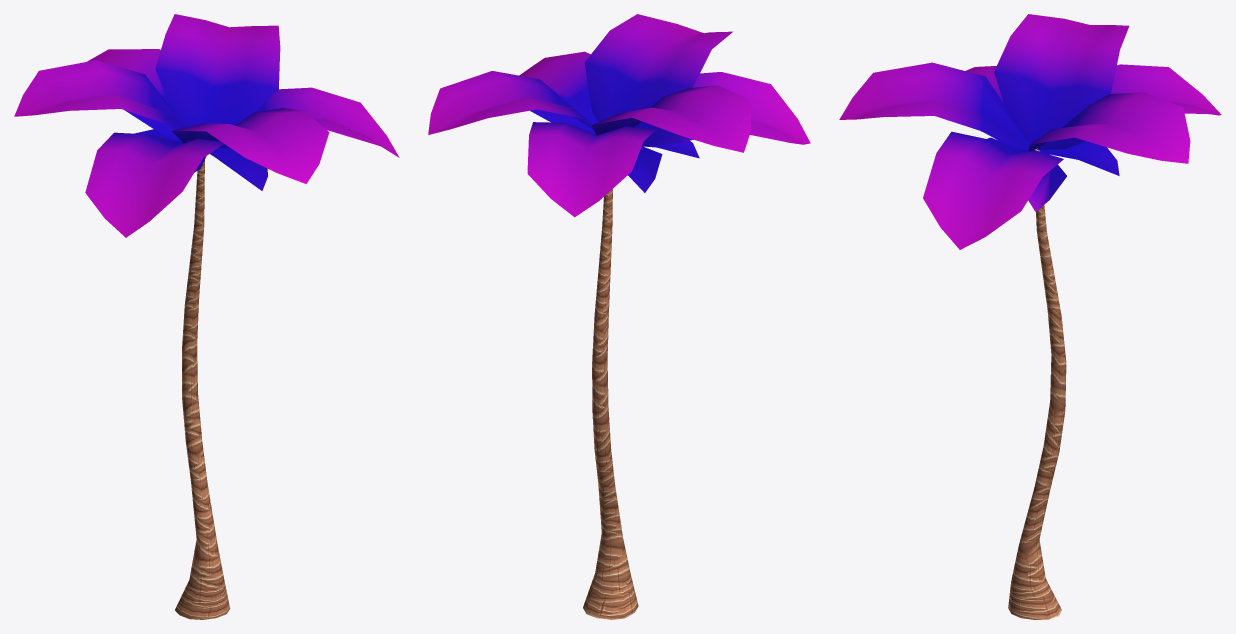
File: Tree_Palmier_02.fbx
3 renders of one model, left to right at view 1: azimuth 30°, elevation 25°; view 2: azimuth 150°, elevation 25°; view 3: azimuth 270°, elevation 25°, orthographic.
Parts seen in each view (by area): view 1: Palmier_02; view 2: Palmier_02; view 3: Palmier_02.
Boxes of the visible parts, x1,y1,x2,y2 form: Palmier_02: (14,14,399,619); Palmier_02: (428,14,810,619); Palmier_02: (839,14,1221,619).
Bounding box in the file's own units: 436 × 698 × 456.
